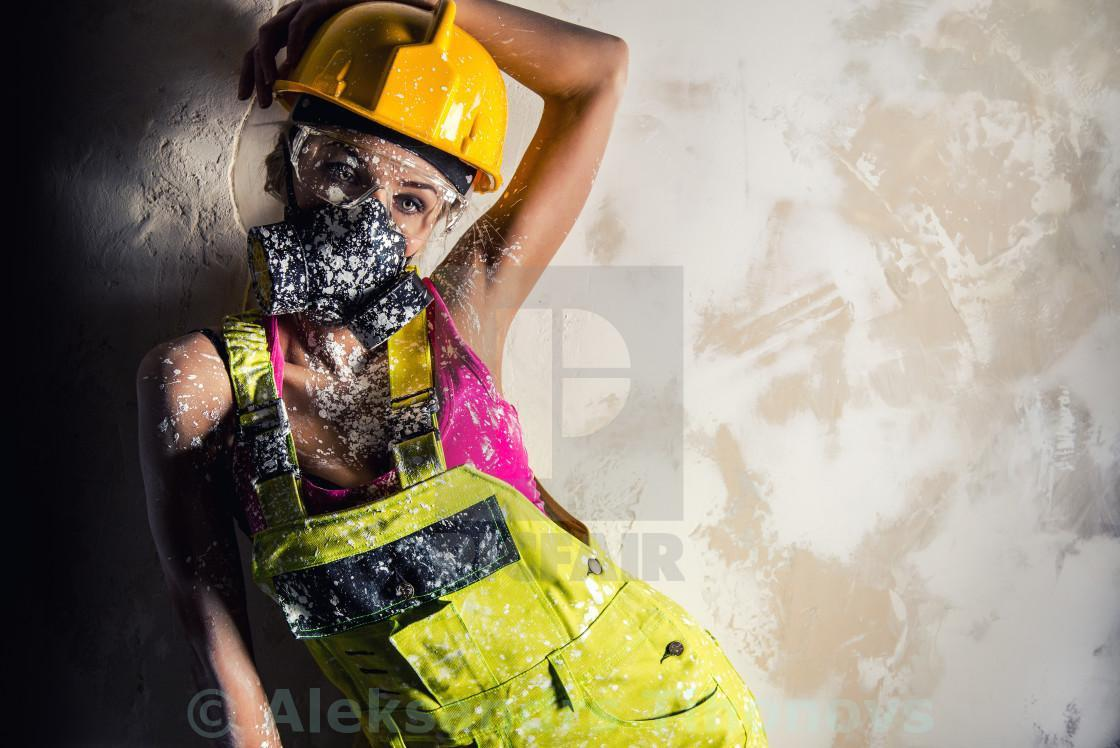hardhat: (273, 4, 510, 196)
worker: (140, 3, 770, 747)
